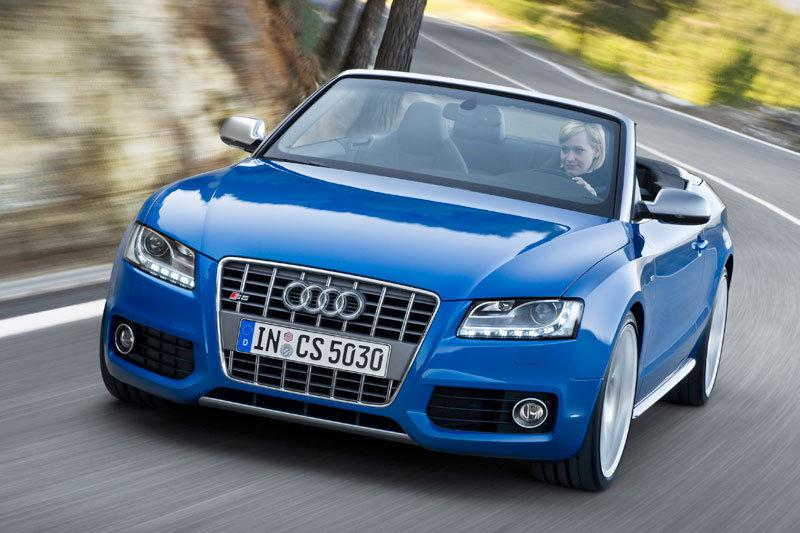Car: (87, 38, 765, 511)
